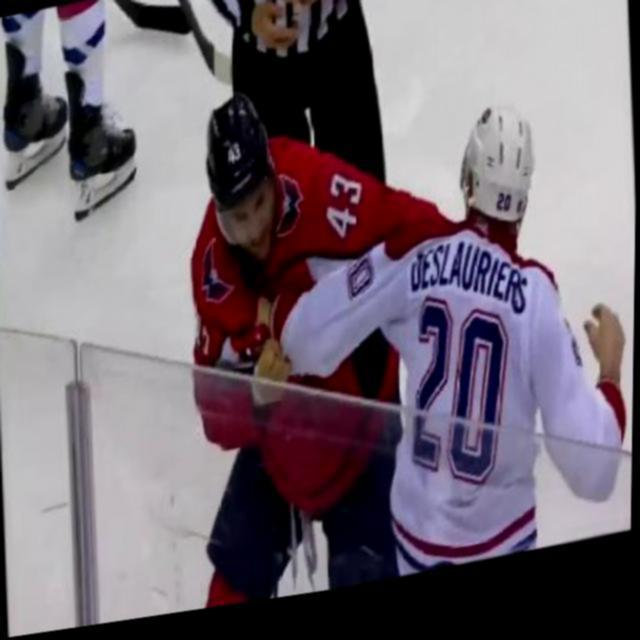fight: (173, 32, 638, 606)
